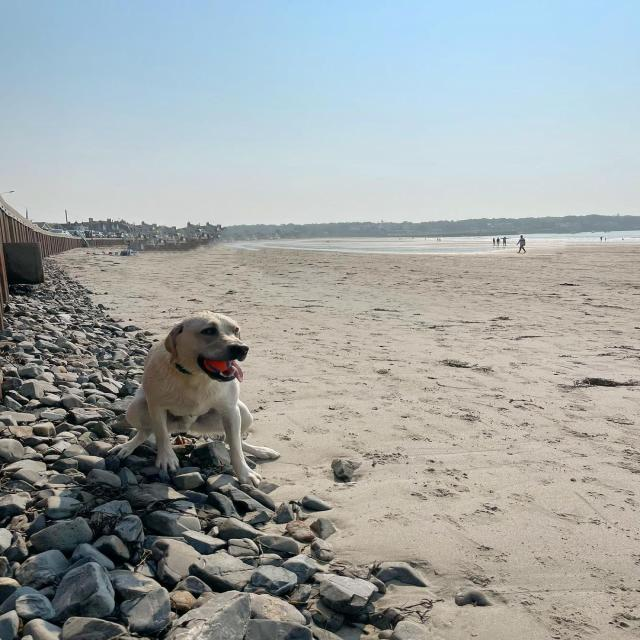squatting: (107, 304, 290, 488)
